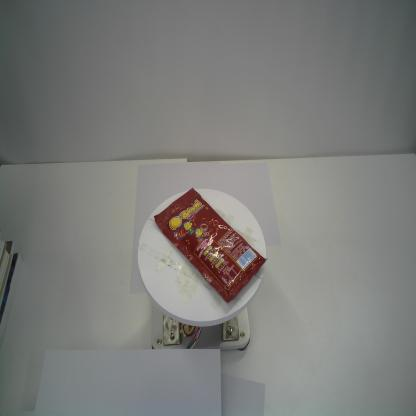Candy: (154, 187, 268, 304)
